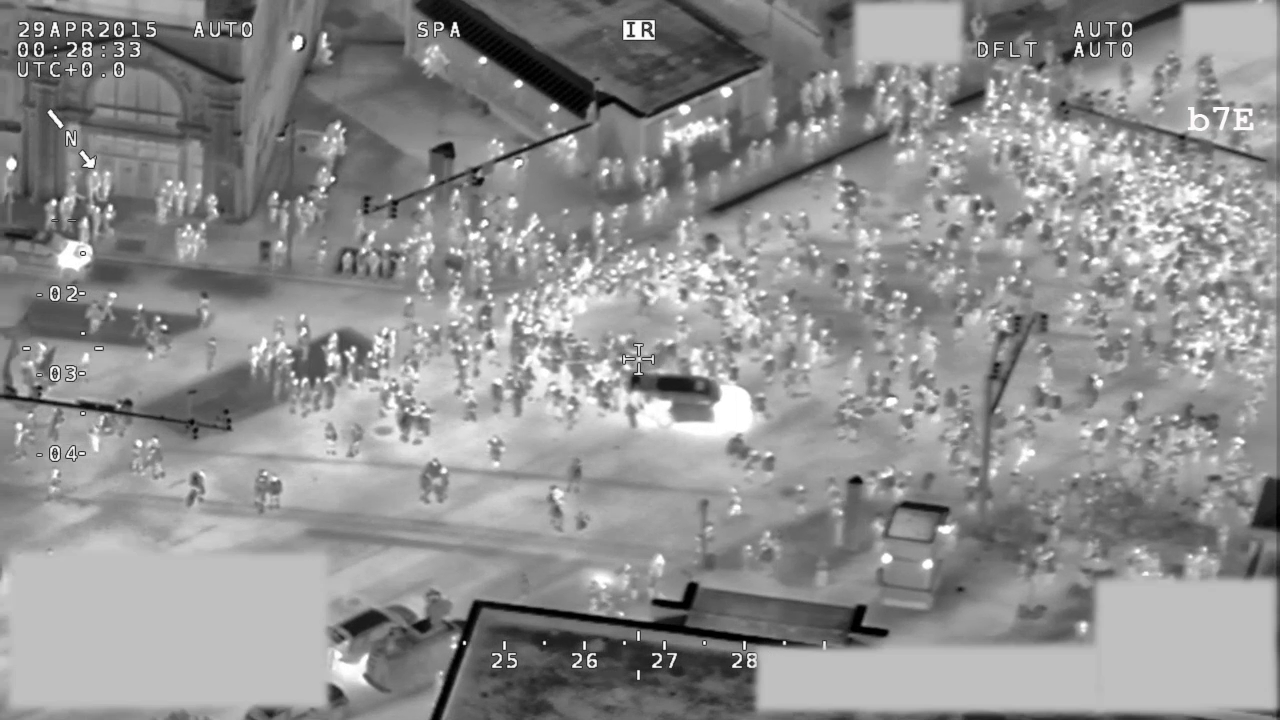vehicle: (365, 584, 476, 697), (620, 366, 762, 442), (1, 222, 98, 292), (329, 592, 418, 668)
